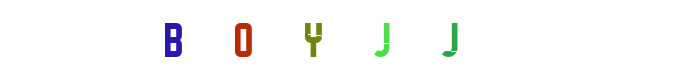0: (203, 0, 283, 80)
B: (133, 0, 213, 80)
J: (299, 0, 379, 80), (375, 0, 455, 80)
Y: (273, 0, 353, 80)
